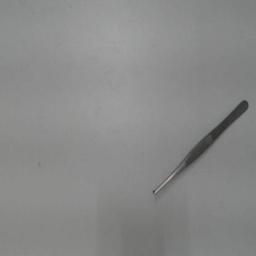Gillies Toothed Dissector: (150, 94, 250, 202)
